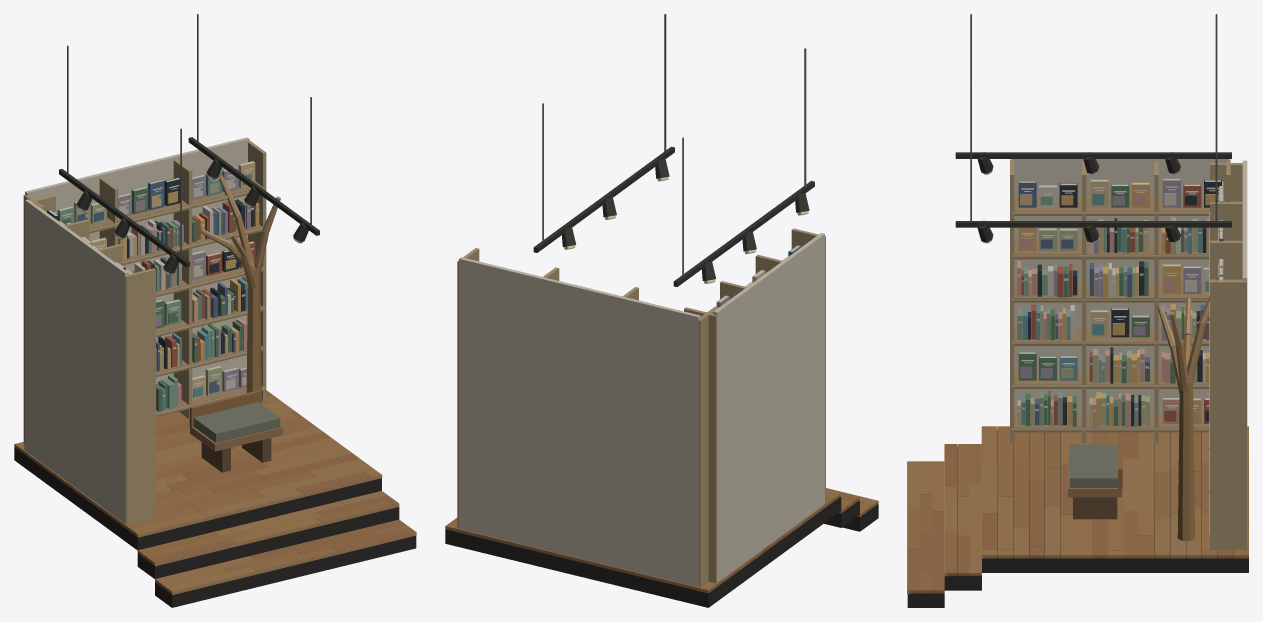
File: reading.glb
3 views of the same model, side by side, from view 1: azimuth 30°, elevation 25°; view 2: azimuth 150°, elevation 25°; view 3: azimuth 270°, elevation 25° (orthographic). The views are drawn at different scales.
Visible parts, largest first — view 1: Surface; view 2: Surface; view 3: Surface.
Part boxes in pixels (left/top/right/bottom): Surface: left=14, top=14, right=416, bottom=607; Surface: left=445, top=14, right=878, bottom=607; Surface: left=907, top=14, right=1248, bottom=607.
Size of the model in its own units: 2.54 by 4.45 by 2.84.
